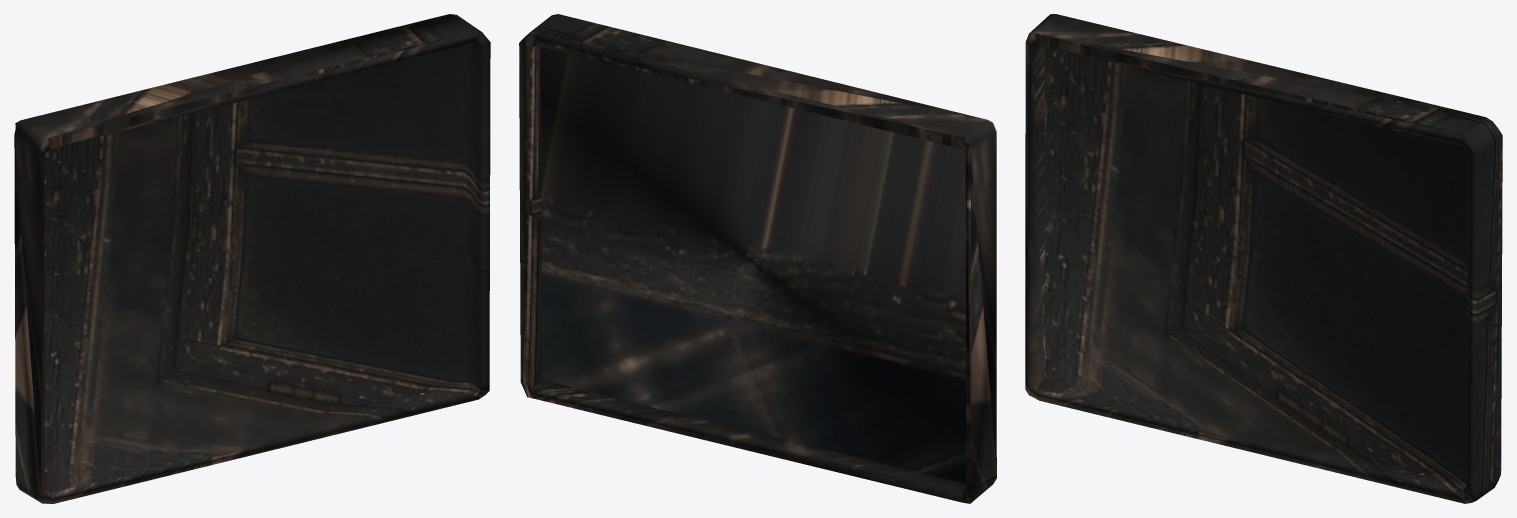
Rendered from hospital sign9.fbx.
The picture shows the model from 3 angles, left to right: view 1: azimuth 30°, elevation 25°; view 2: azimuth 150°, elevation 25°; view 3: azimuth 330°, elevation 25°; orthographic projection.
Parts seen in each view (by area): view 1: hospital sign9; view 2: hospital sign9; view 3: hospital sign9.
Part boxes in pixels (bbox=[...]): hospital sign9: bbox=[14, 14, 490, 503]; hospital sign9: bbox=[519, 14, 996, 503]; hospital sign9: bbox=[1025, 14, 1502, 503].
Bounding box in the file's own units: 431 × 336 × 44.06.
